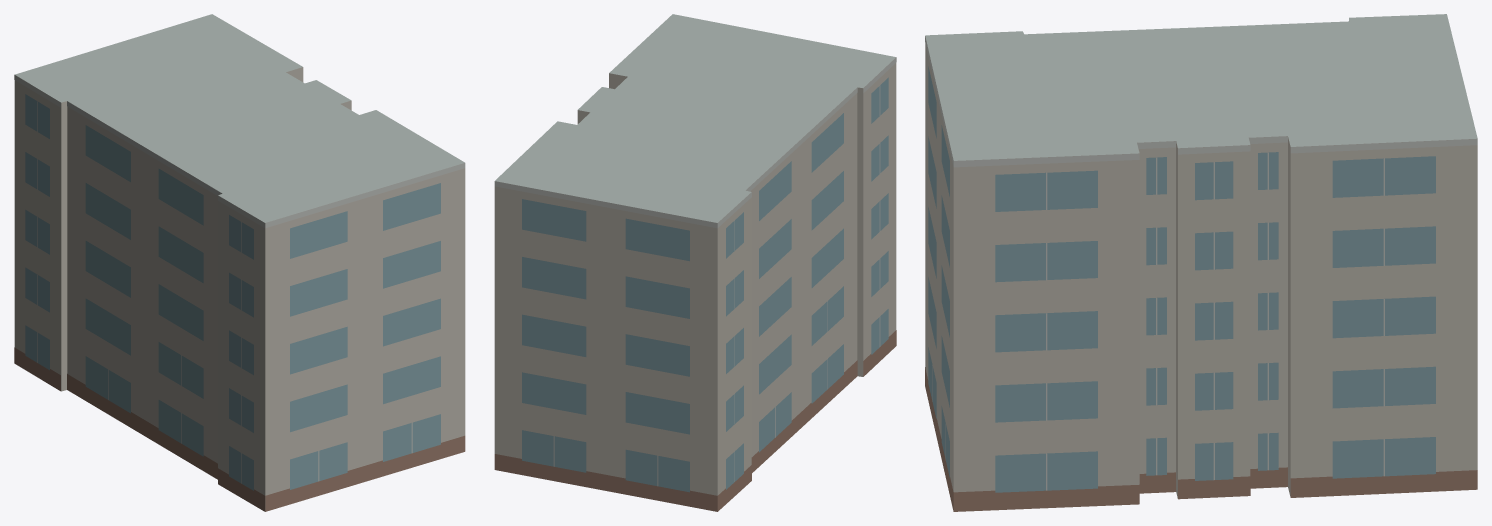
File: survey-upis-32653490.glb
3 views of the same model, side by side, from view 1: azimuth 30°, elevation 25°; view 2: azimuth 150°, elevation 25°; view 3: azimuth 270°, elevation 25° (orthographic). The views are drawn at different scales.
Parts seen in each view (by area): view 1: survey-upis-32653490.tmp; view 2: survey-upis-32653490.tmp; view 3: survey-upis-32653490.tmp.
Part boxes in pixels (box(x1,y1,x2,y2)): survey-upis-32653490.tmp: box(14, 14, 465, 511); survey-upis-32653490.tmp: box(494, 14, 896, 511); survey-upis-32653490.tmp: box(925, 14, 1477, 511).
Bounding box in the file's own units: 11.95 × 13.3 × 18.99.
